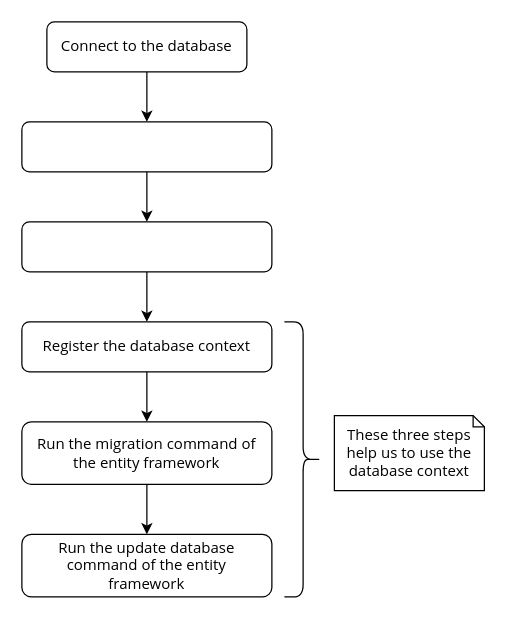
The diagram is 506 pixels wide and 629 high, and some of its shapes have lost their labels. The box of each missing label's shape, as (x1, y1, x2, y2) in pixels:
Create application's DB context: (21, 221, 272, 272)
Create the user's database model: (21, 121, 272, 172)
